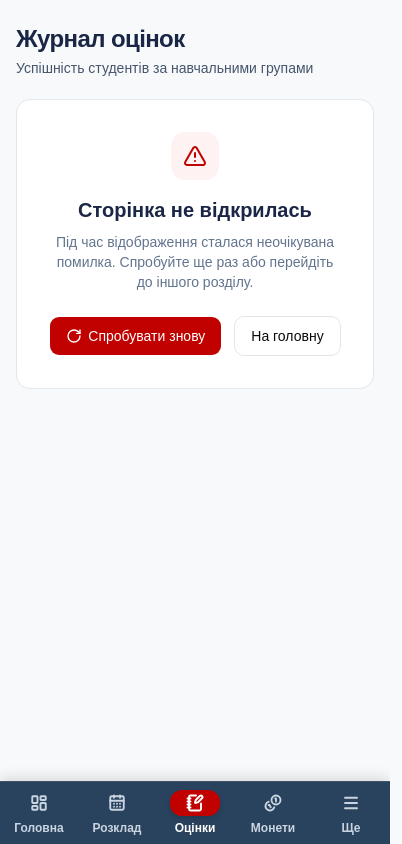
Test: AppLayout — ErrorBoundary сторінки › помилка рендеру сторінки не забирає навігацію, а перехід на інший розділ її знімає
Expected: the heading "Сторінка не відкрилась" is shown, [78,196,312,224]
Click the link "Розклад" at (117, 814), box [92,794,141,835]
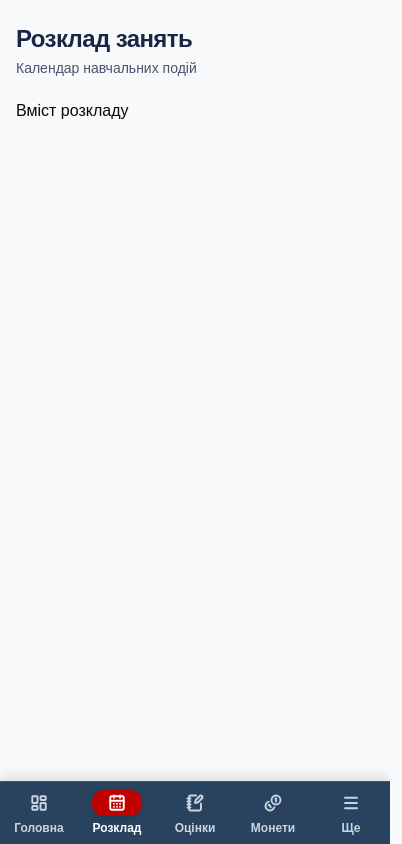
Result: the text "Вміст розкладу" is shown at [16,102,128,119]
Result: the heading "Сторінка не відкрилась" is gone
